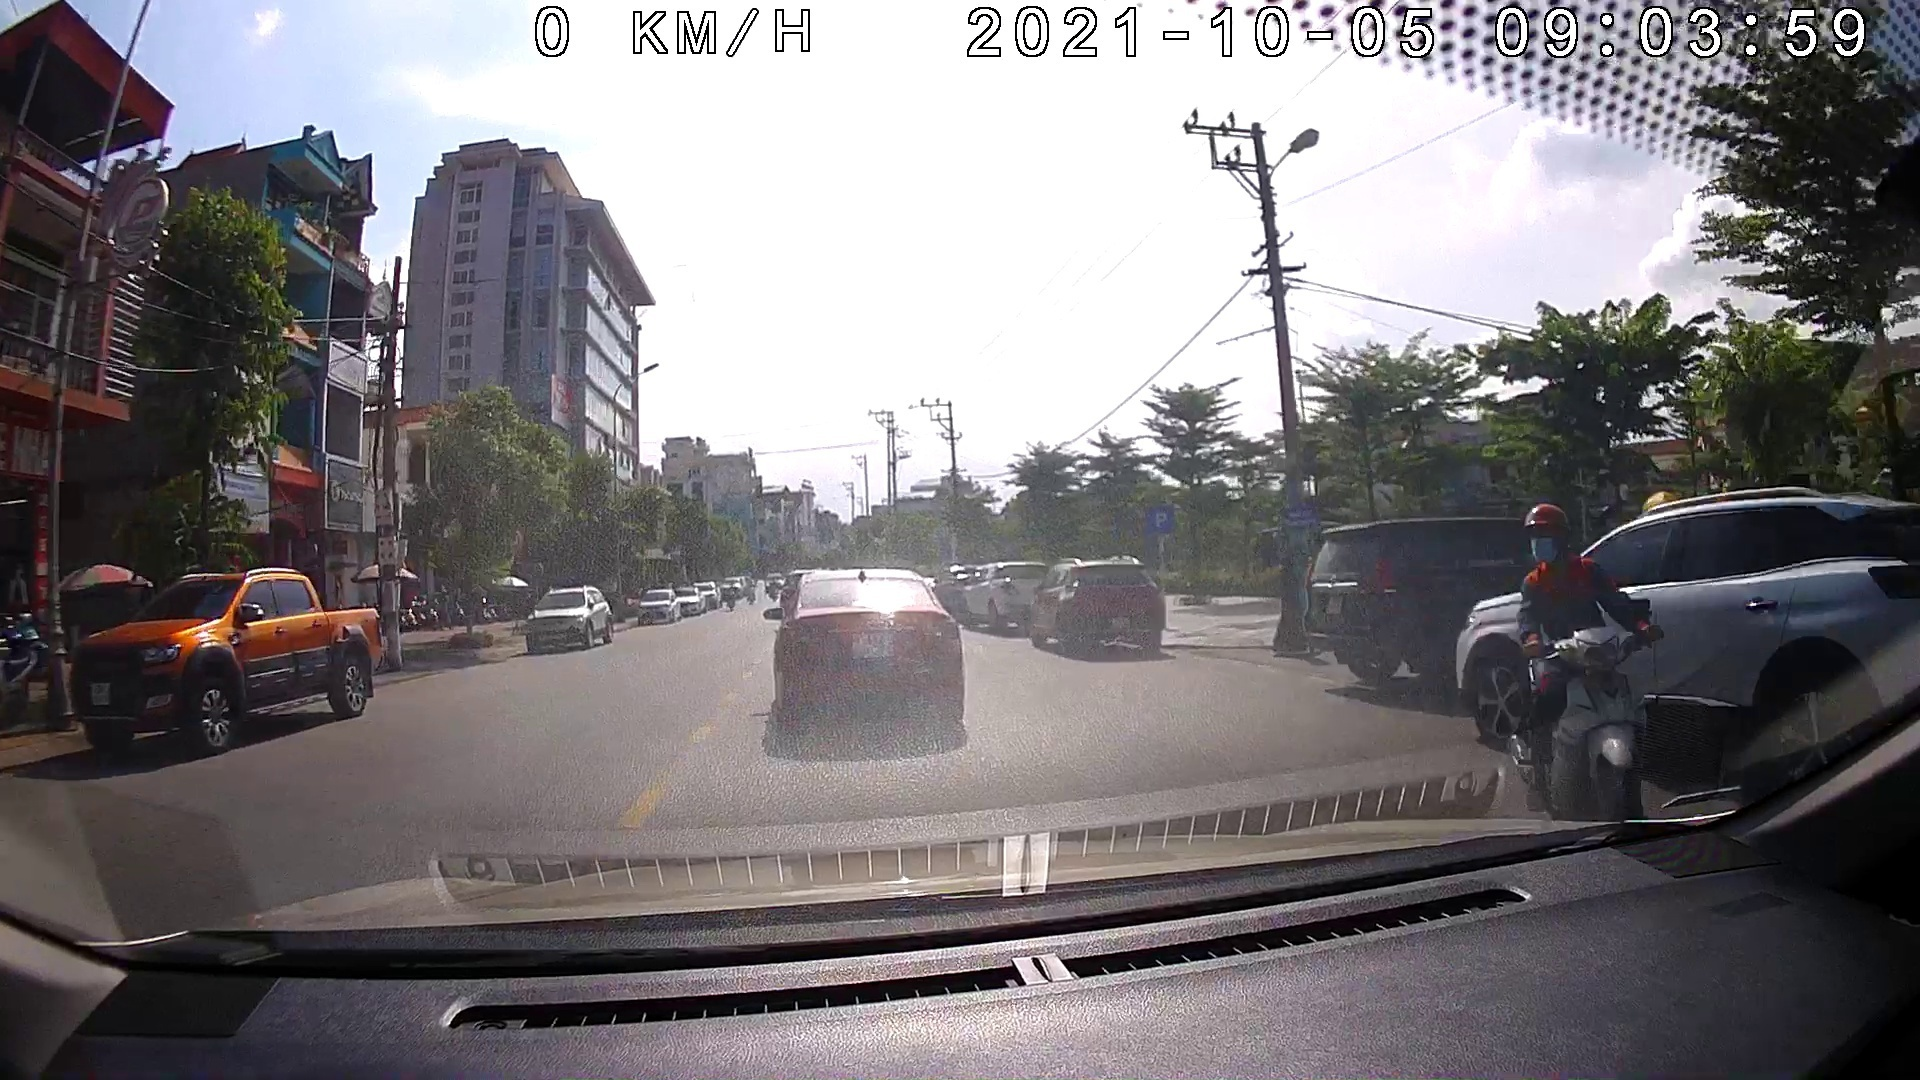Bien khac: (1149, 504, 1174, 533)
